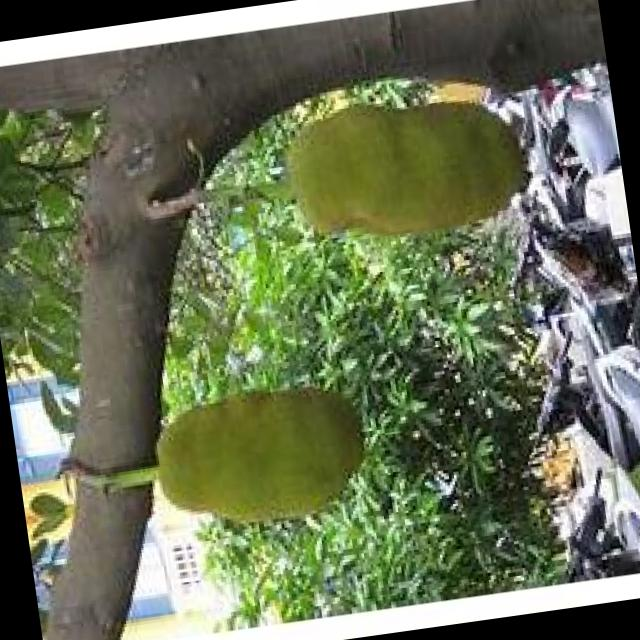Fruit: (252, 47, 564, 276), (126, 342, 405, 568)
